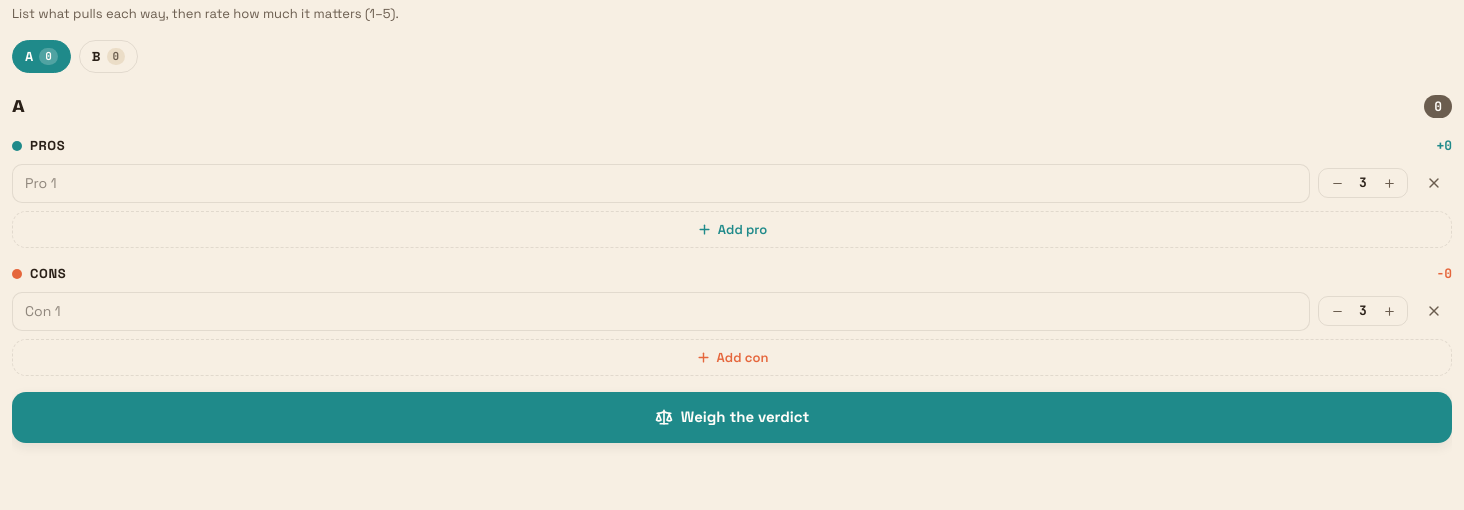
Test: ProsConsGame — edit → weigh → commit flow › adds and removes pro rows
Expected: the field with test id "proscons-pros-input-0" is shown, left=12, top=164, right=1310, bottom=202
Click the button with test id "proscons-add-pro" at (732, 229), box left=12, top=210, right=1452, bottom=248
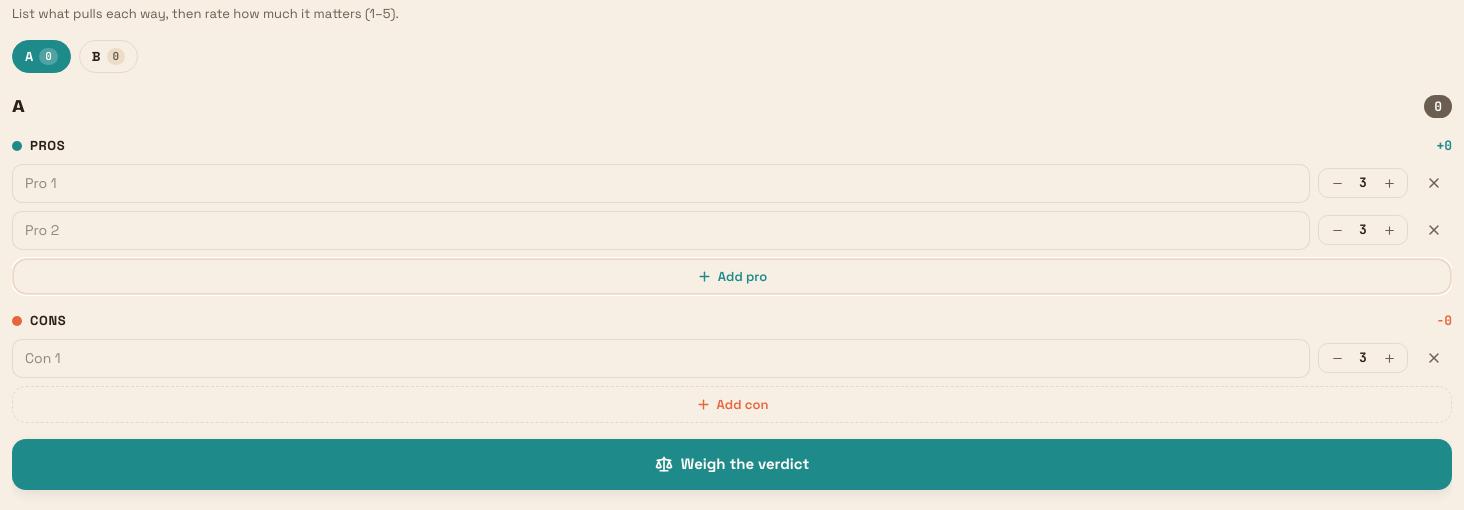
Expected: the field with test id "proscons-pros-input-1" is shown, left=12, top=210, right=1310, bottom=250
Click the button with test id "proscons-pros-remove-1" at (1434, 230), box left=1416, top=212, right=1452, bottom=248
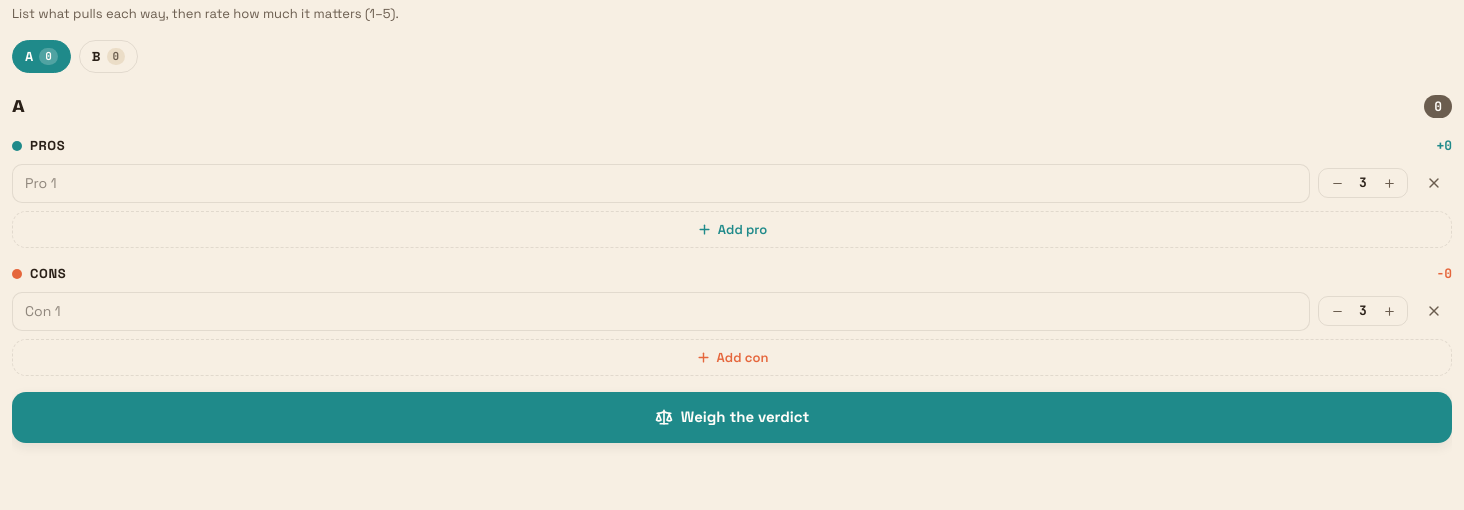
Expected: the field with test id "proscons-pros-input-1" is gone
